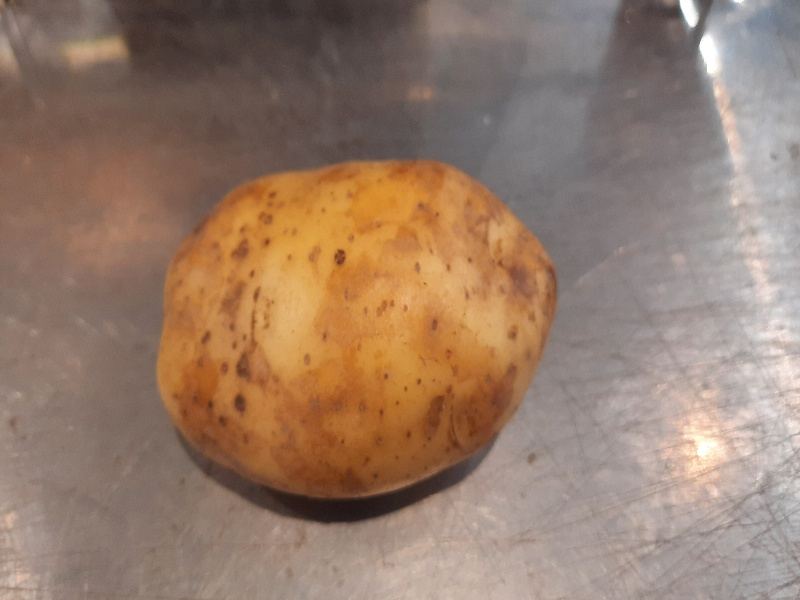vege: (156, 154, 565, 503)
